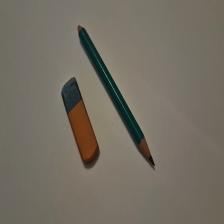eraser: (63, 78, 101, 165)
pencil: (79, 25, 156, 167)
